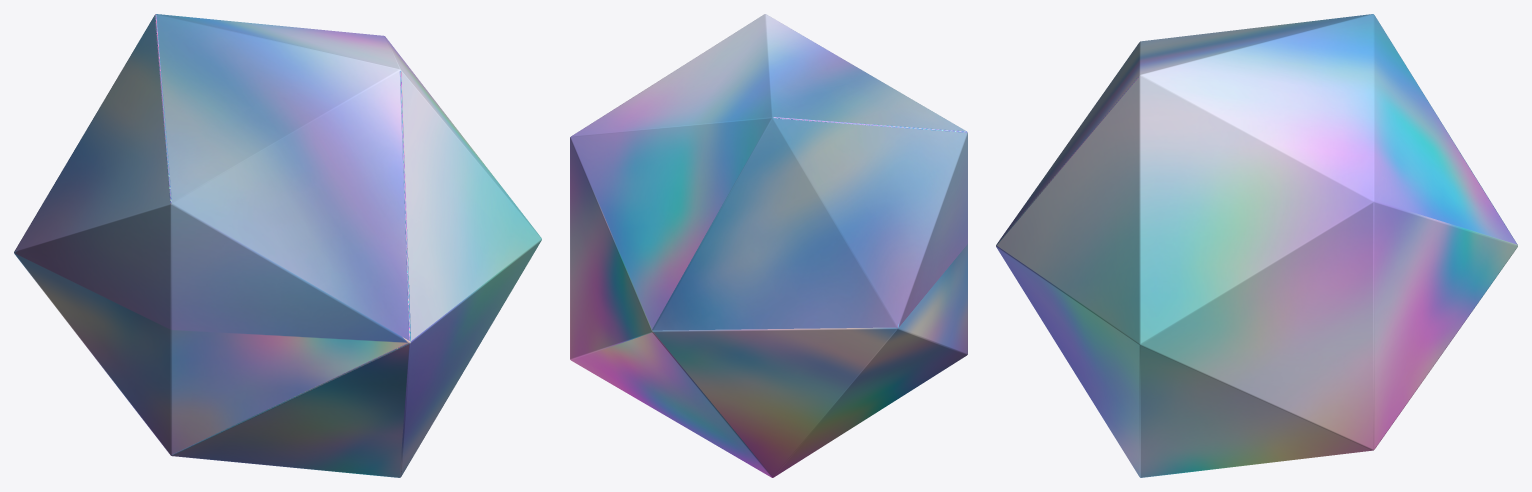
The model's file is Prim_10.gltf.
3 views of the same model, side by side, from view 1: azimuth 30°, elevation 25°; view 2: azimuth 150°, elevation 25°; view 3: azimuth 270°, elevation 25° (orthographic). The views are drawn at different scales.
Visible parts, largest first — view 1: 002; view 2: 002; view 3: 002.
Part boxes in pixels (bbox=[...]): 002: bbox=[14, 14, 541, 477]; 002: bbox=[570, 14, 967, 477]; 002: bbox=[996, 14, 1517, 477].
Size of the model in its own units: 81.12 by 77.2 by 90.58.
1 material, 1 textured.
